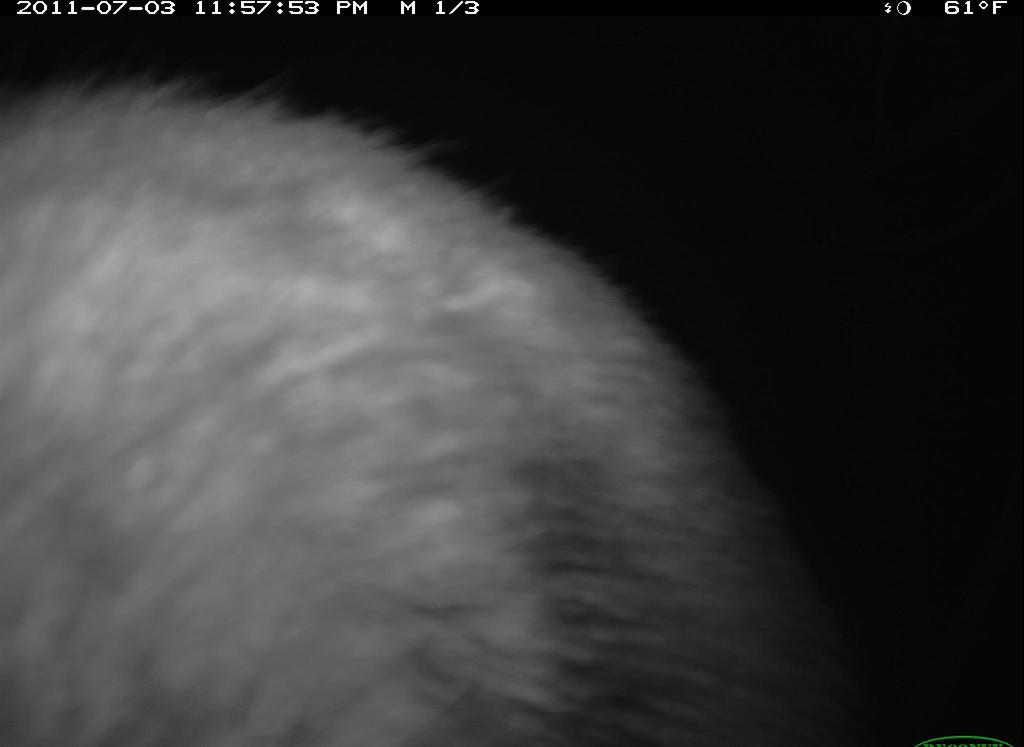raccoon: (9, 65, 897, 747)
